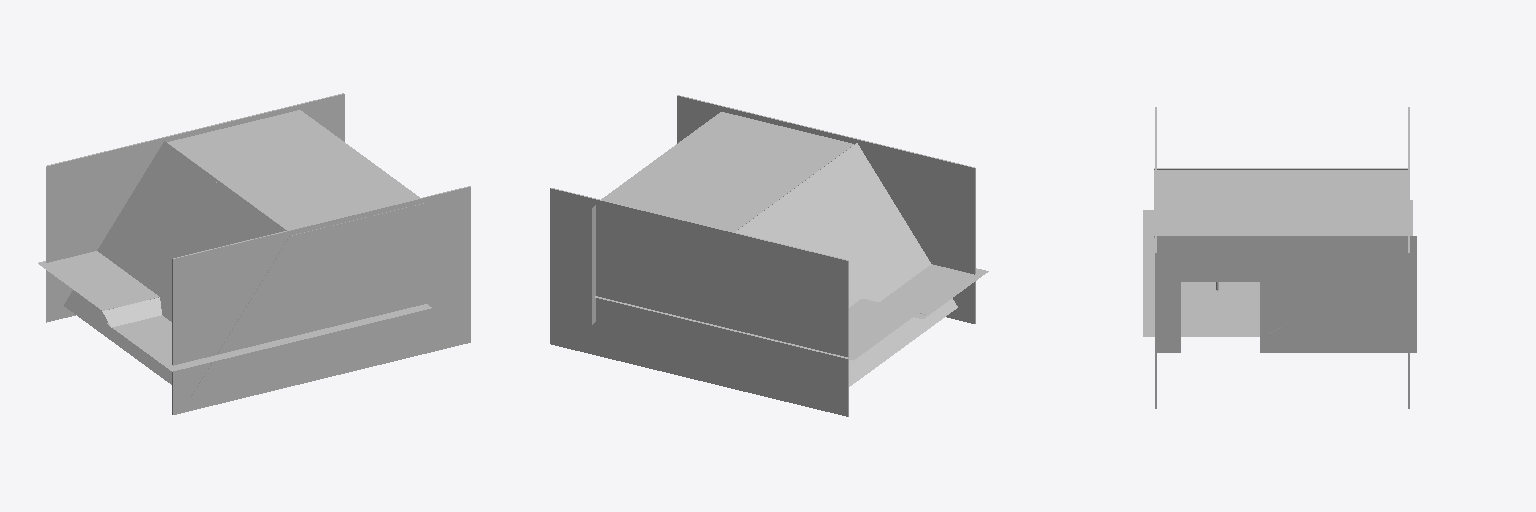
The model's file is SoraJewelBase_Kai.obj.
3 views of the same model, side by side, from view 1: azimuth 30°, elevation 25°; view 2: azimuth 150°, elevation 25°; view 3: azimuth 270°, elevation 25° (orthographic).
Visible parts, largest first — view 1: pCube6, pCube1, pCube4, pCube5, pPlane5, pPlane9, pPlane8, pPlane10; view 2: pCube5, pCube4, pCube1, pCube6, pPlane9, pPlane5; view 3: pCube1, pPlane2, pPlane3, pPlane10, pPlane9, pCube5, pCube6.
Part boxes in pixels (left/top/right/bottom): pCube6: left=172, top=186, right=470, bottom=414; pCube1: left=167, top=110, right=426, bottom=237; pCube4: left=64, top=141, right=292, bottom=398; pCube5: left=46, top=93, right=344, bottom=322; pPlane5: left=38, top=251, right=158, bottom=310; pPlane9: left=107, top=315, right=301, bottom=371; pPlane8: left=102, top=297, right=161, bottom=327; pPlane10: left=297, top=304, right=431, bottom=339; pCube5: left=550, top=188, right=848, bottom=416; pCube4: left=735, top=143, right=957, bottom=386; pCube1: left=601, top=112, right=853, bottom=231; pCube6: left=677, top=95, right=975, bottom=323; pPlane9: left=879, top=264, right=988, bottom=318; pPlane5: left=724, top=299, right=919, bottom=360; pCube1: left=1154, top=170, right=1407, bottom=237; pPlane2: left=1286, top=236, right=1416, bottom=352; pPlane3: left=1157, top=238, right=1286, bottom=352; pPlane10: left=1143, top=274, right=1259, bottom=336; pPlane9: left=1143, top=210, right=1154, bottom=273; pCube5: left=1408, top=107, right=1409, bottom=408; pCube6: left=1155, top=107, right=1156, bottom=408.
Bounding box in the file's own units: 16.4 × 8 × 12.75.